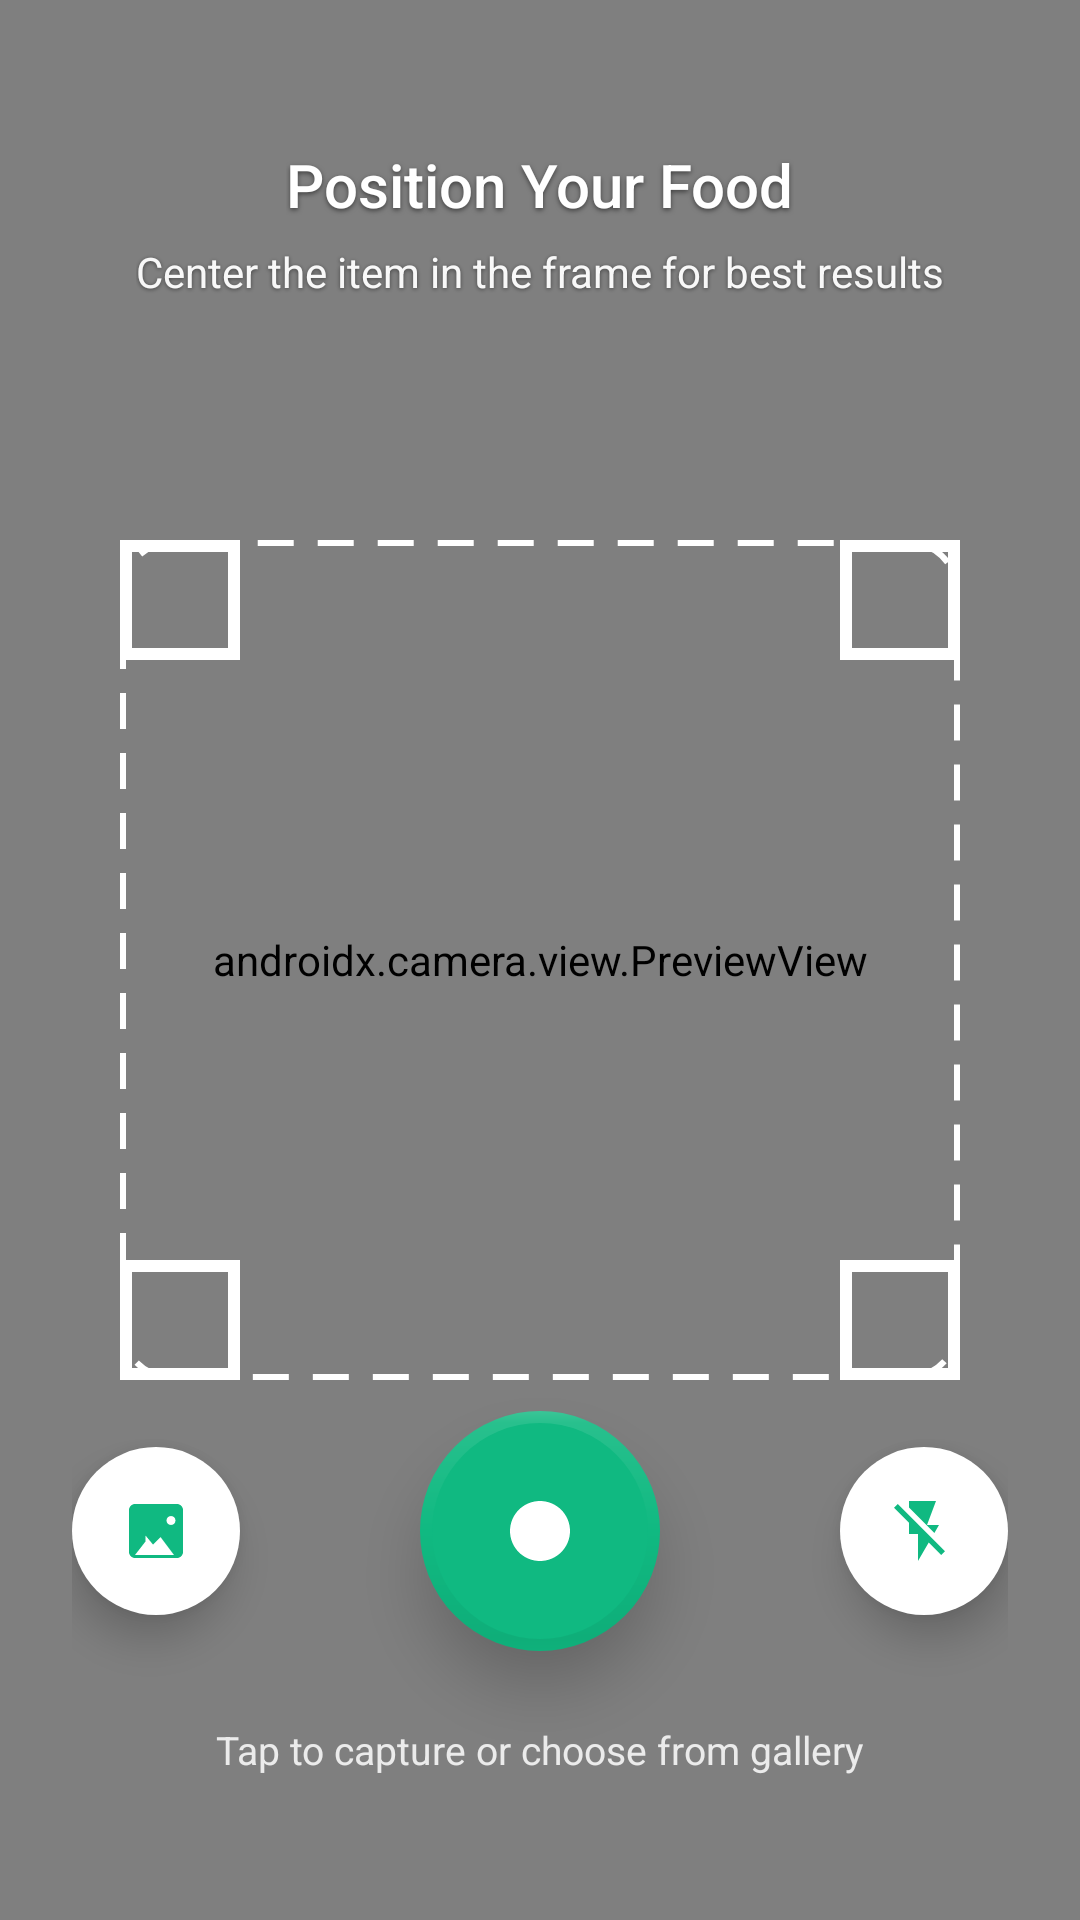

Where icons sit on this 1080x1920 app screen, as box=[x1, y1, x2, y2]:
Toggle flash: box=[840, 1447, 1008, 1615]
